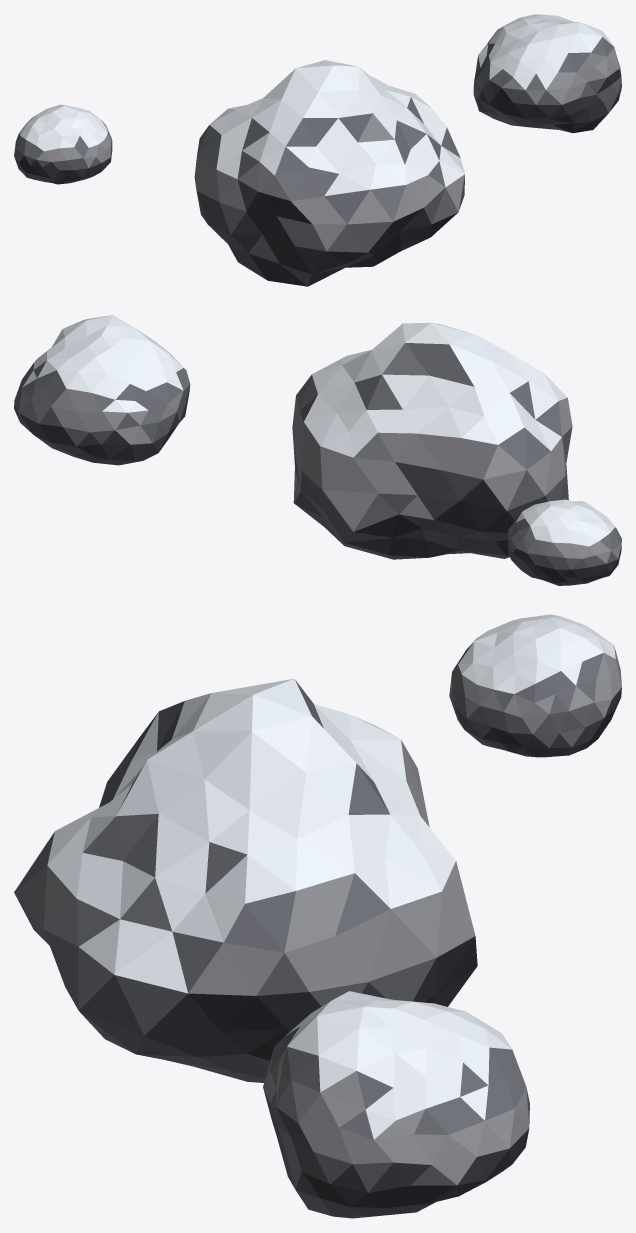
Rendered from rock_cluster.glb.
3 renders of one model, top to bottom at view 1: azimuth 30°, elevation 25°; view 2: azimuth 150°, elevation 25°; view 3: azimuth 270°, elevation 25°, orthographic. The views are drawn at different scales.
Parts seen in each view (by area): view 1: rock_cluster; view 2: rock_cluster; view 3: rock_cluster.
Boxes of the visible parts, x1,y1,x2,y2 form: rock_cluster: (14, 14, 621, 286); rock_cluster: (14, 315, 621, 585); rock_cluster: (14, 614, 621, 1218).
Bounding box in the file's own units: 20.09 × 7.03 × 10.25.
1 material, 1 textured.
